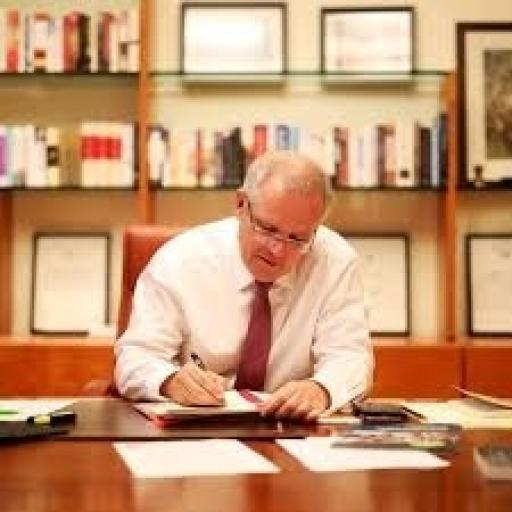sitting: (110, 148, 376, 423)
